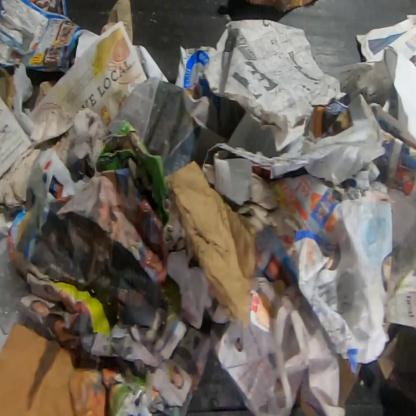cardboard: (166, 160, 258, 330), (0, 321, 78, 415), (174, 14, 237, 98), (377, 324, 415, 407), (339, 357, 363, 409), (0, 65, 18, 113), (295, 390, 320, 415)
